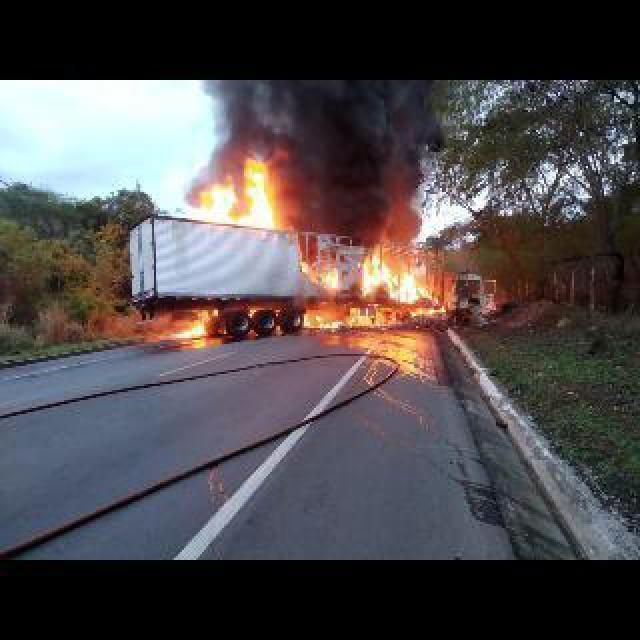Fire: (204, 160, 280, 228), (358, 258, 436, 304), (306, 308, 372, 328), (178, 312, 214, 338), (322, 268, 342, 288), (298, 260, 308, 274), (428, 308, 446, 314)
Smoke: (270, 88, 452, 244), (154, 80, 244, 186)
